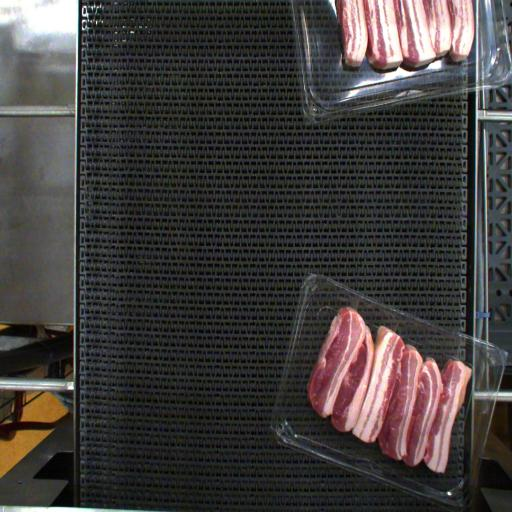packaging-error: (349, 293, 360, 313)
